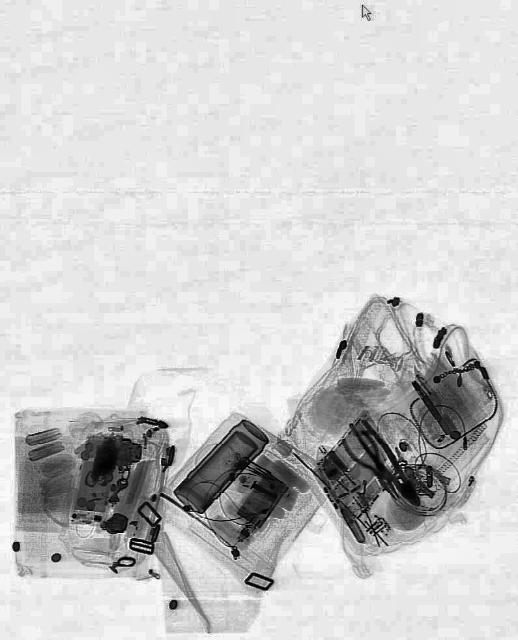Pliers: (345, 409, 429, 515), (338, 419, 408, 507)
